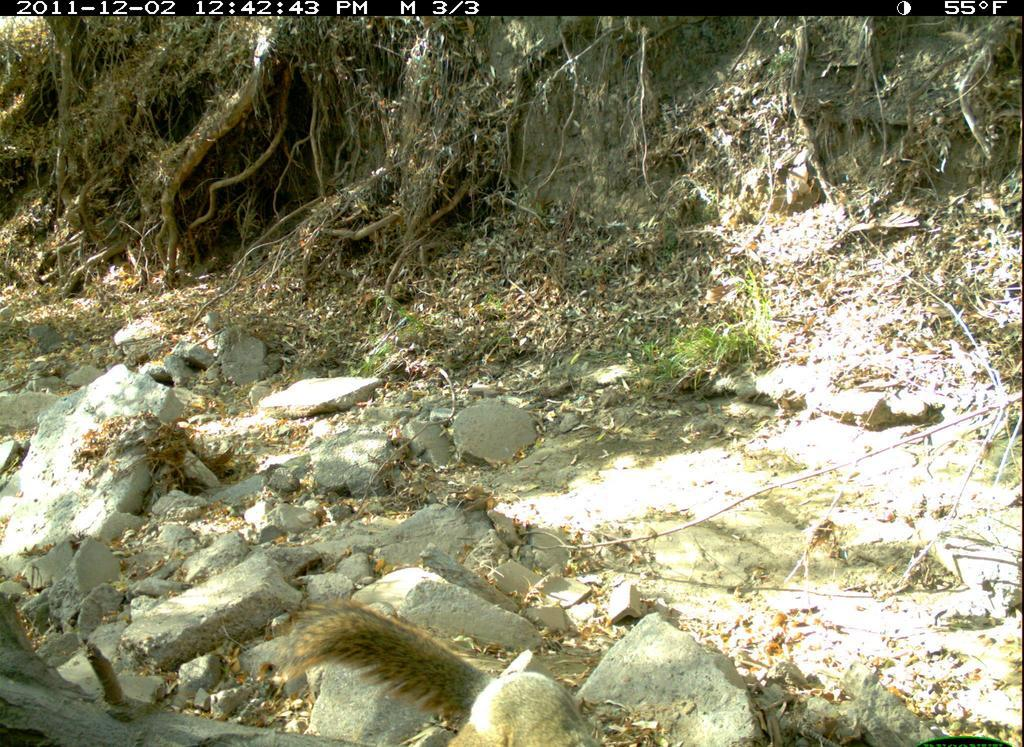squirrel: (277, 588, 615, 747)
